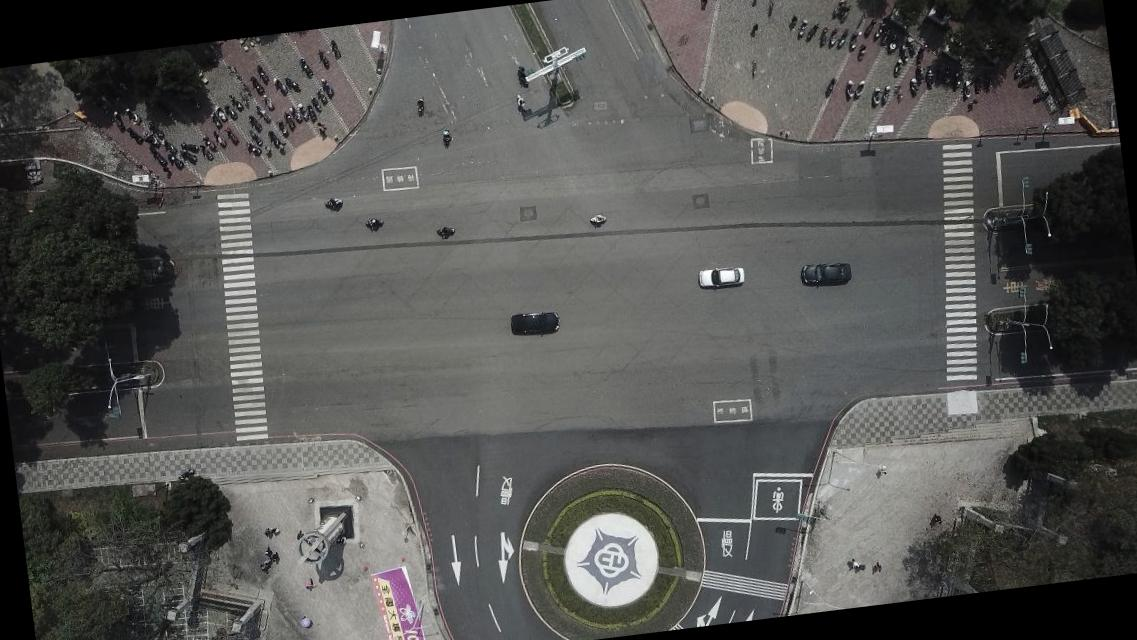vehicle: (796, 257, 855, 291), (508, 307, 562, 340), (696, 262, 747, 291)
